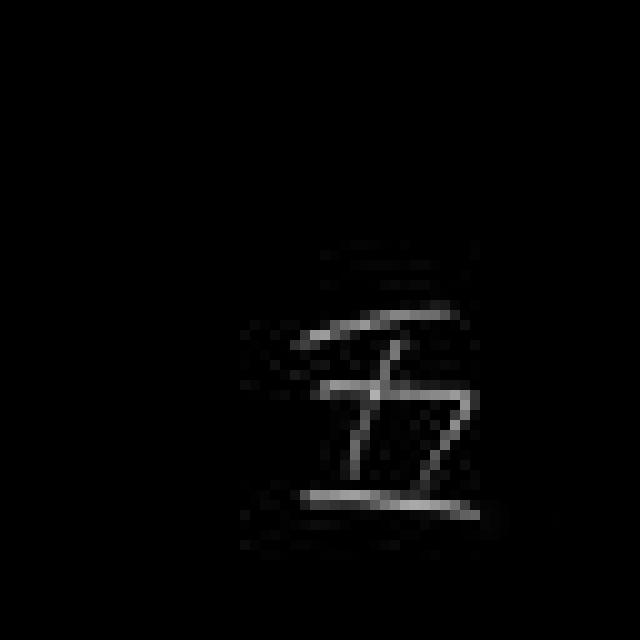5 -five-: (284, 298, 492, 531)
